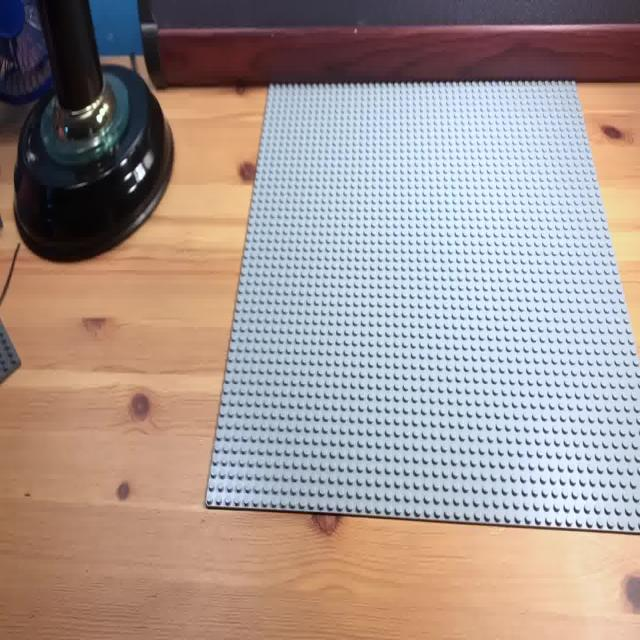figure: (210, 85, 638, 521)
